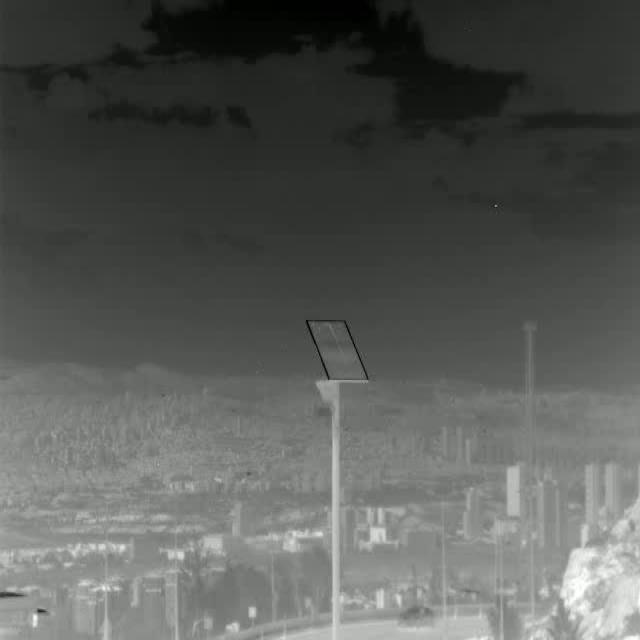Car: (397, 602, 439, 630)
